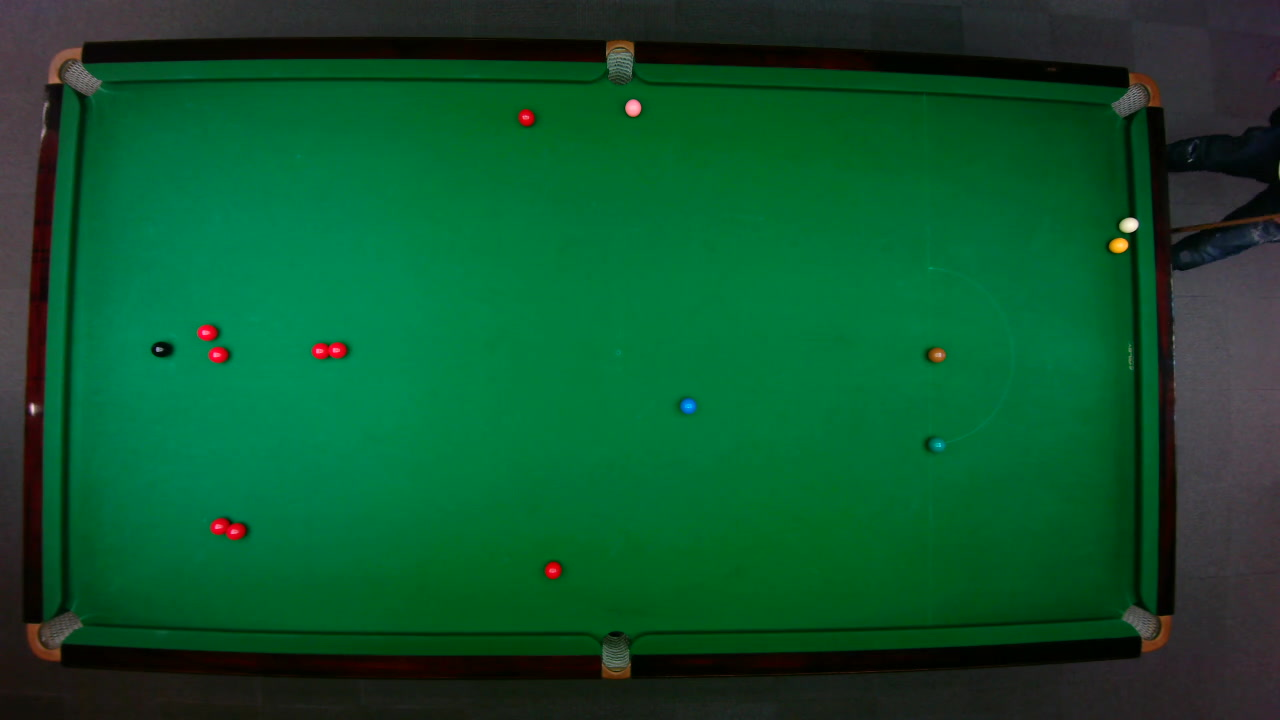bag: (24, 609, 83, 661), (45, 46, 102, 96), (1119, 603, 1171, 652), (1108, 71, 1161, 117), (600, 629, 630, 680), (605, 38, 633, 85)
black: (149, 339, 171, 357)
blue: (678, 396, 697, 414)
brown: (926, 346, 945, 362)
green: (926, 435, 946, 452)
pink: (623, 97, 642, 117)
red: (208, 516, 231, 536), (224, 520, 247, 540), (195, 322, 218, 341), (325, 340, 347, 359), (207, 345, 229, 363), (310, 341, 330, 360), (543, 559, 562, 579), (517, 108, 535, 127)
white: (1116, 215, 1139, 233)
yellow: (1106, 235, 1130, 253)
zone: (926, 266, 1013, 445)
